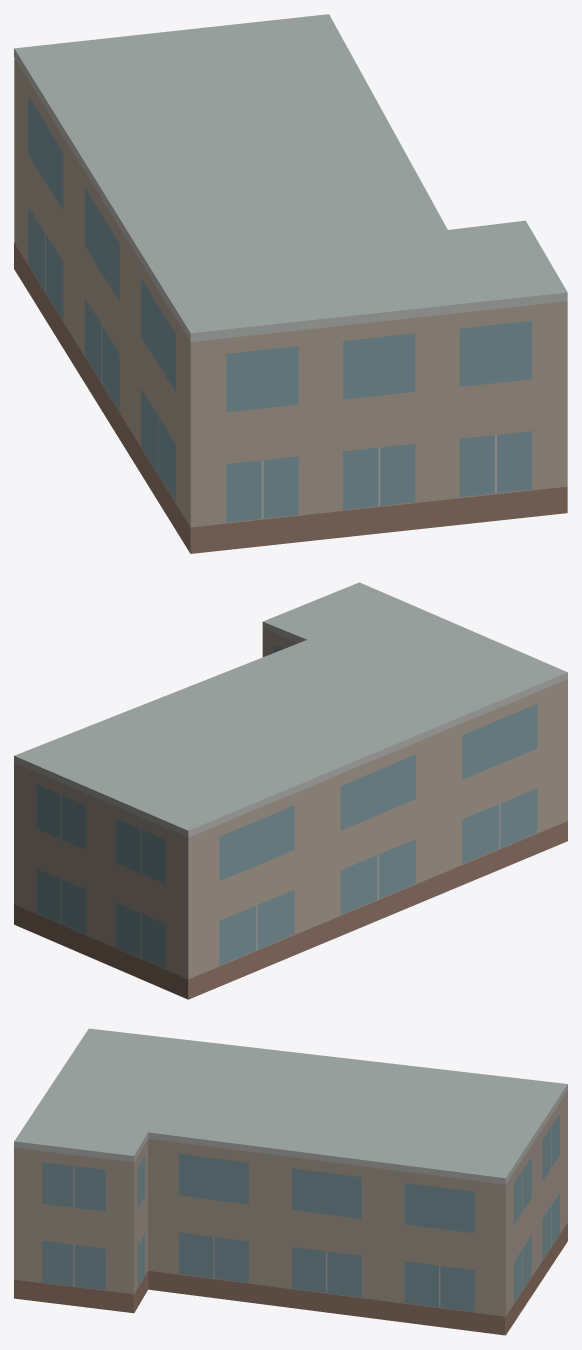
The model's file is survey-upis-32757637.glb.
3 renders of one model, top to bottom at view 1: azimuth 30°, elevation 25°; view 2: azimuth 150°, elevation 25°; view 3: azimuth 270°, elevation 25°, orthographic. The views are drawn at different scales.
Visible parts, largest first — view 1: survey-upis-32757637.tmp; view 2: survey-upis-32757637.tmp; view 3: survey-upis-32757637.tmp.
Boxes of the visible parts, x1,y1,x2,y2 form: survey-upis-32757637.tmp: (14,14,567,553); survey-upis-32757637.tmp: (14,582,567,999); survey-upis-32757637.tmp: (14,1028,567,1335).
Size of the model in its own units: 12.49 by 6.1 by 19.49.
